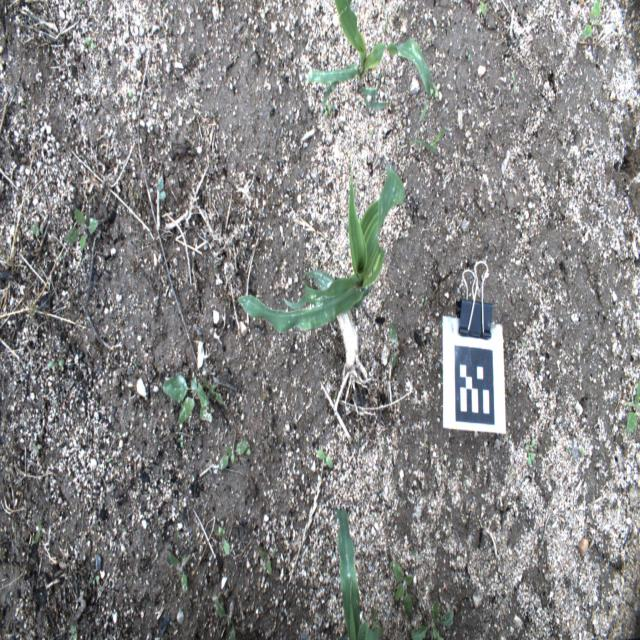crop: (235, 162, 406, 332), (305, 0, 431, 126), (336, 508, 383, 639)
weed: (160, 375, 210, 423), (410, 601, 454, 639), (64, 206, 99, 252), (392, 560, 415, 622), (404, 126, 452, 154), (167, 549, 192, 594), (200, 379, 224, 425), (623, 372, 639, 433), (219, 440, 249, 469), (216, 596, 235, 639), (581, 1, 600, 40), (258, 547, 277, 575), (388, 319, 397, 372), (218, 528, 230, 556), (524, 438, 535, 467), (316, 449, 333, 467), (156, 178, 167, 199), (429, 82, 440, 96)
